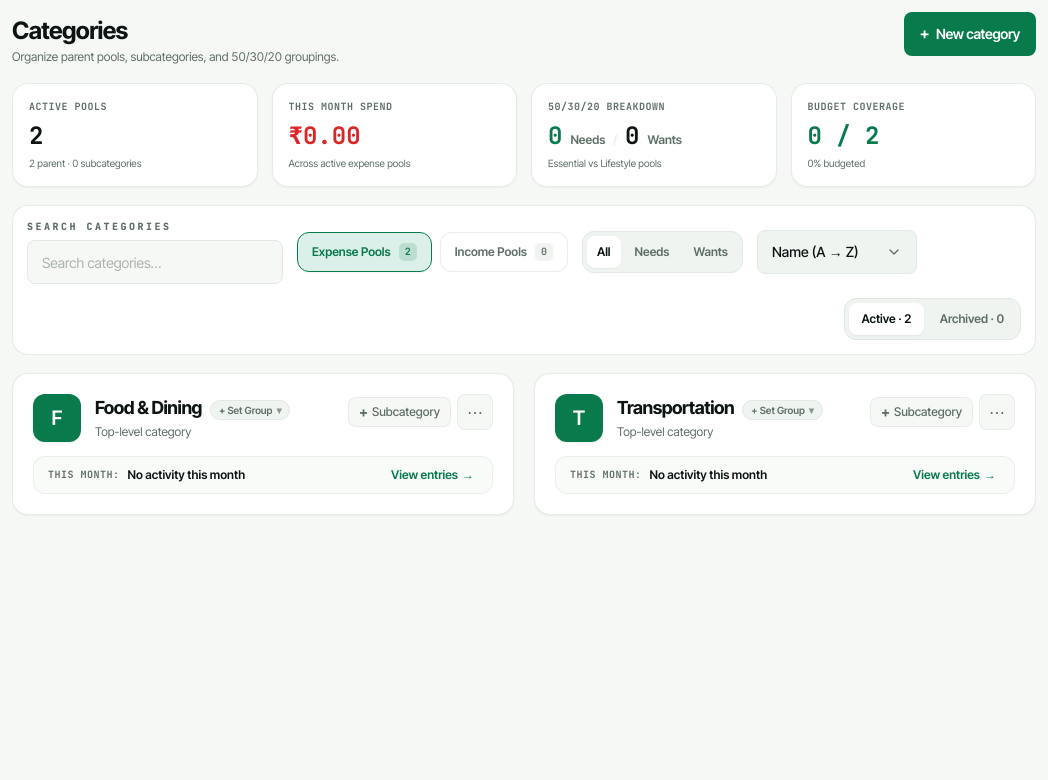
CategoryManager › filters categories in real time based on search query
Expected: the heading "Food & Dining" is shown, [95,394,202,422]
Expected: the heading "Transportation" is shown, [617,394,734,422]
Type "Food" into the field labelled "Search categories" at (155, 262), box [27,240,283,284]
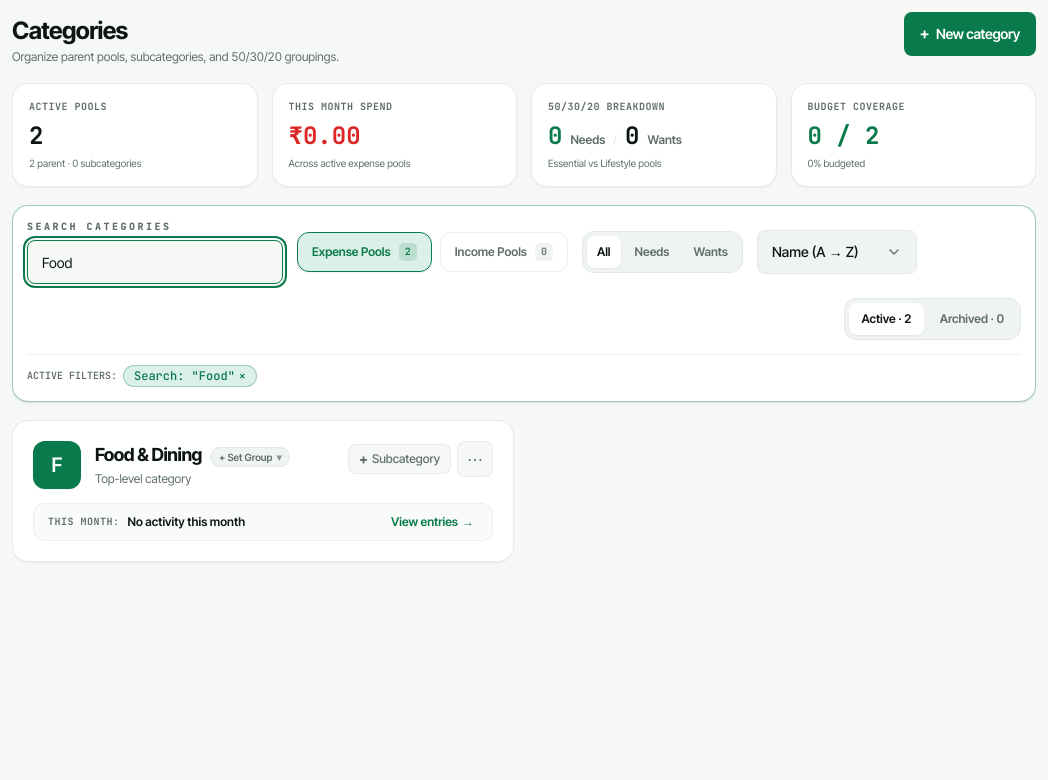
Expected: the heading "Food & Dining" is shown, [95,441,202,469]
Now the heading "Transportation" is gone
